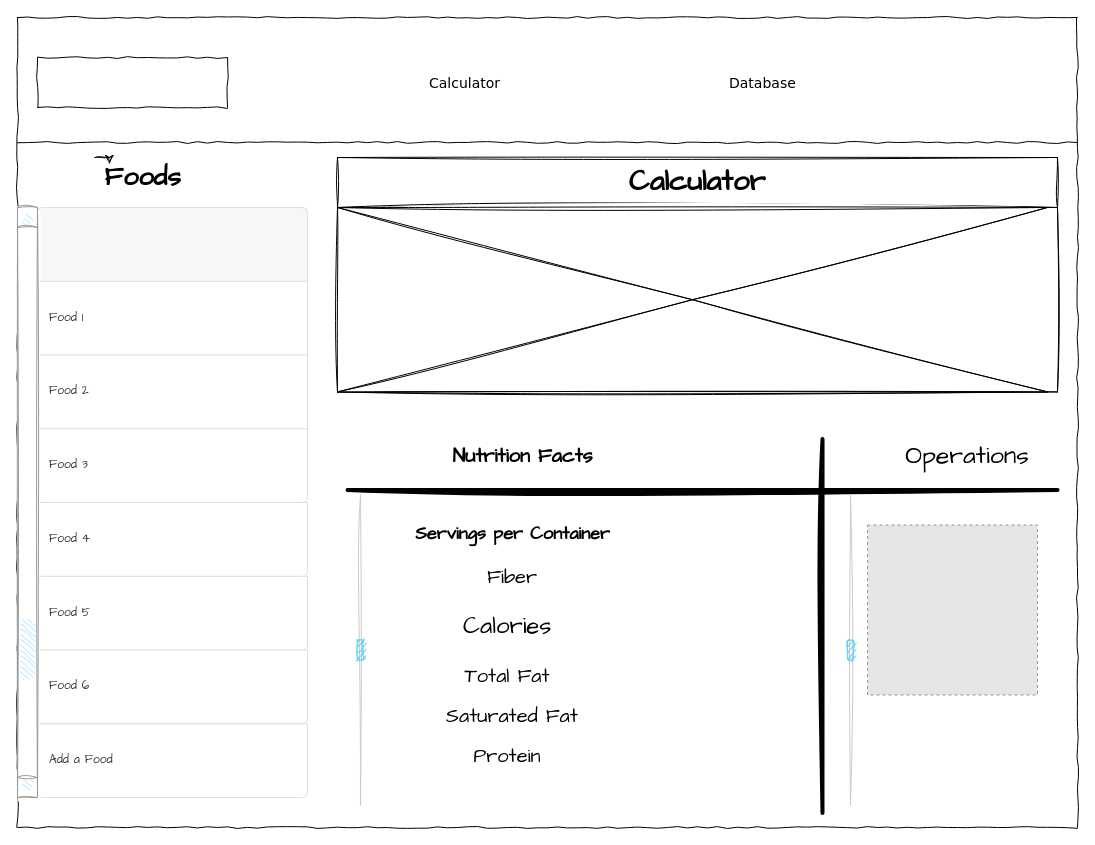
The diagram is 1095 pixels wide and 845 high, and some of its shapes have lost their labels. Grey dashed boxes stand in for pictures. The shapes that lost their labels are listed below. From the top down, each one's box as (x1, y1, x2, y2) in pixels, then its label:
(36, 56, 228, 108): LOGO
(36, 206, 308, 281): Type to Filter
